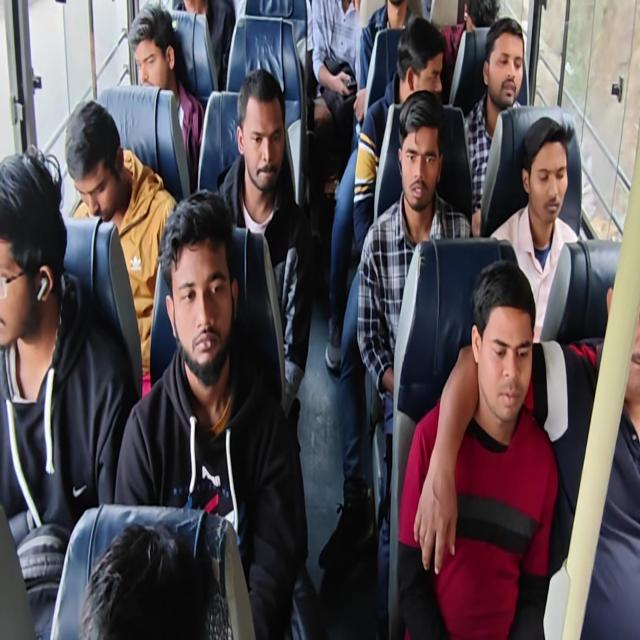person: (0, 154, 79, 392), (82, 522, 208, 640), (164, 210, 232, 380), (459, 278, 534, 420), (231, 75, 292, 193), (68, 106, 128, 220), (599, 264, 640, 388), (400, 106, 445, 214), (530, 115, 572, 225), (131, 10, 175, 95), (488, 20, 526, 107), (399, 33, 442, 95), (457, 0, 505, 44), (380, 0, 409, 24)
